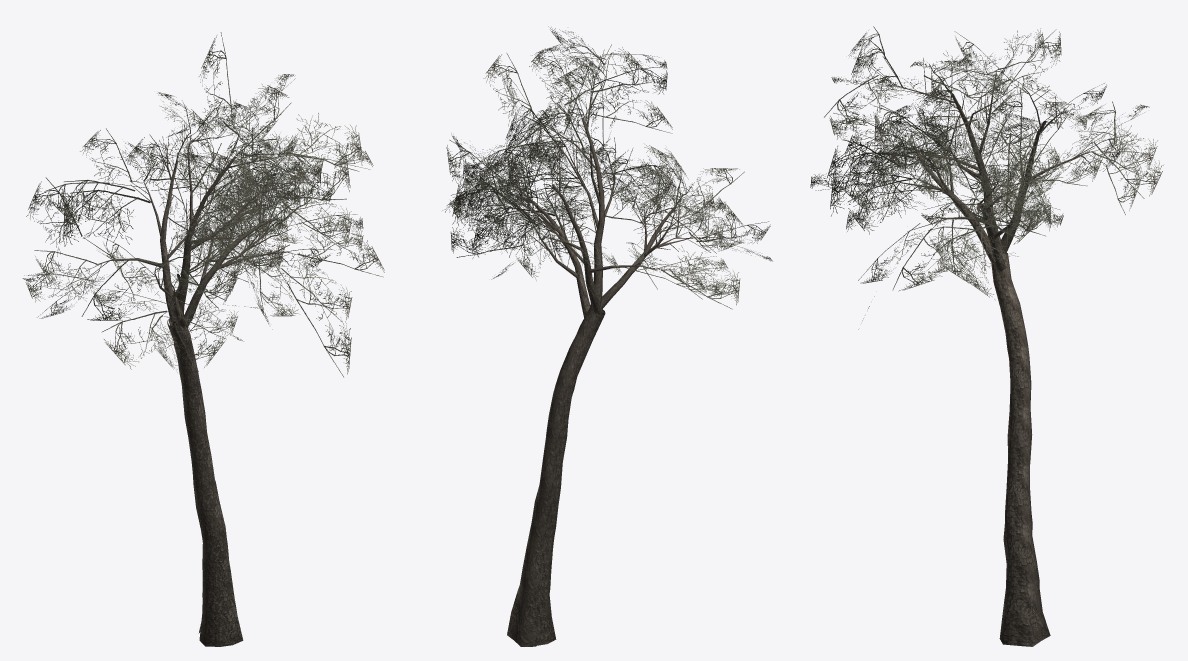
Rendered from tree_v6_decid_gothic_tall_winter.glb.
The picture shows the model from 3 angles, left to right: view 1: azimuth 30°, elevation 25°; view 2: azimuth 150°, elevation 25°; view 3: azimuth 270°, elevation 25°; orthographic projection. The views are drawn at different scales.
Parts seen in each view (by area): view 1: tree_v6_decid_gothic_tall_winter_LOD0; view 2: tree_v6_decid_gothic_tall_winter_LOD0; view 3: tree_v6_decid_gothic_tall_winter_LOD0.
Part boxes in pixels (bbox=[...]): tree_v6_decid_gothic_tall_winter_LOD0: bbox=[22, 32, 384, 646]; tree_v6_decid_gothic_tall_winter_LOD0: bbox=[442, 26, 772, 646]; tree_v6_decid_gothic_tall_winter_LOD0: bbox=[810, 26, 1163, 646].
Size of what is drawn, in the model's own units: 8.41 by 14.9 by 7.81.
1 material, 1 textured.
